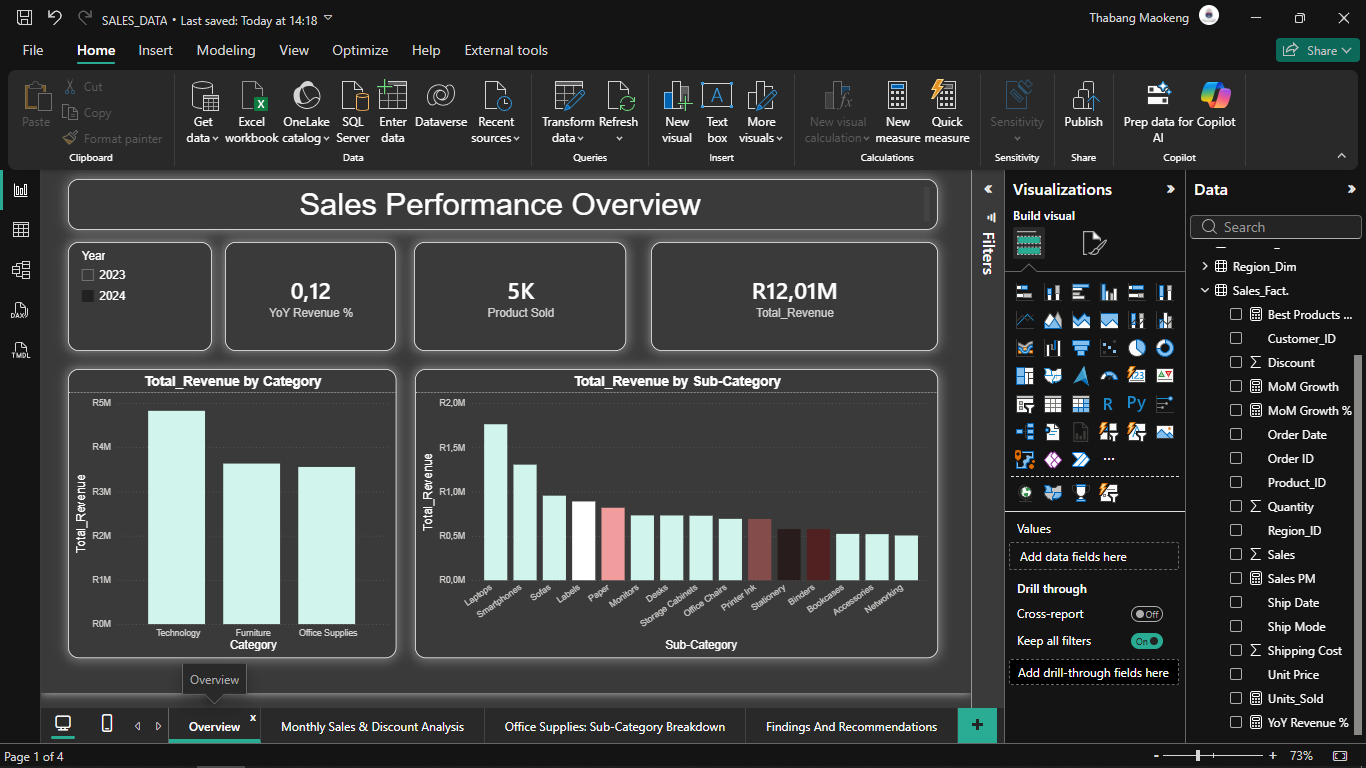

What the dashboard file says about the page in this screenshot:
{"tool":"powerbi","page":{"name":"Overview","canvas":[1280,720],"ordinal":0},"visuals":[{"type":"clusteredColumnChart","fields":{"Y":["Customer_Dim.Total_Revenue"],"Category":["Product_Dim.Category"]},"box":[16.9,273.5,472.2,428.5],"z":0},{"type":"cardVisual","fields":{"Data":["Customer_Dim.Total_Revenue"]},"box":[839.9,99.1,394.8,149.5],"z":1000},{"type":"cardVisual","fields":{"Data":["Sales_Fact..Units_Sold"]},"box":[514,99.1,292.3,149.5],"z":2000},{"type":"slicer","fields":{"Values":["Date_Table.Year"]},"box":[16.9,98.7,218.5,149.4],"z":3000},{"type":"cardVisual","fields":{"Data":["Sales_Fact..YoY Revenue %"]},"box":[253.6,99.1,235.2,149.5],"z":4000},{"type":"clusteredColumnChart","fields":{"Y":["Customer_Dim.Total_Revenue"],"Category":["Product_Dim.Sub-Category"]},"box":[514.5,273.5,720.4,428.5],"z":5000},{"type":"textbox","box":[16.9,12.7,1218,70.5],"z":6000}]}

Visuals, with their boxes on the page's 1280x720 design canvas (x1, y1, x2, y2). These are canvas units, not pixel positions in the 1366x768 screenshot, which may show the page scaled, cropped or inside an application window:
clusteredColumnChart - Customer_Dim.Total_Revenue x Product_Dim.Category: [x1=17, y1=274, x2=489, y2=702]
cardVisual - Customer_Dim.Total_Revenue: [x1=840, y1=99, x2=1235, y2=249]
cardVisual - Sales_Fact..Units_Sold: [x1=514, y1=99, x2=806, y2=249]
slicer - Date_Table.Year: [x1=17, y1=99, x2=235, y2=248]
cardVisual - Sales_Fact..YoY Revenue %: [x1=254, y1=99, x2=489, y2=249]
clusteredColumnChart - Customer_Dim.Total_Revenue x Product_Dim.Sub-Category: [x1=514, y1=274, x2=1235, y2=702]
textbox: [x1=17, y1=13, x2=1235, y2=83]
